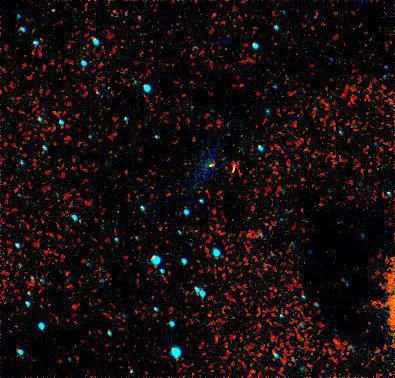star: (199, 152, 229, 182)
